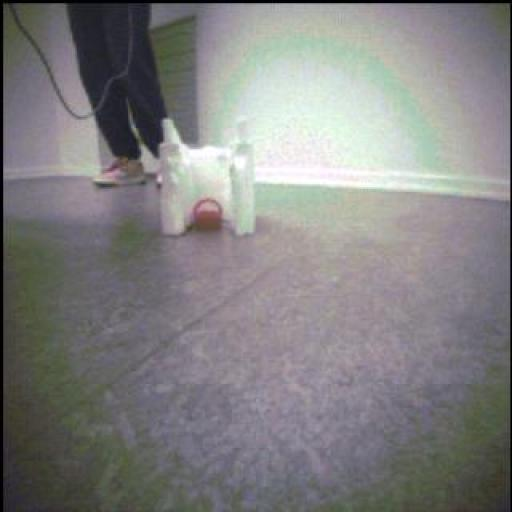Bucket: (194, 197, 226, 234)
